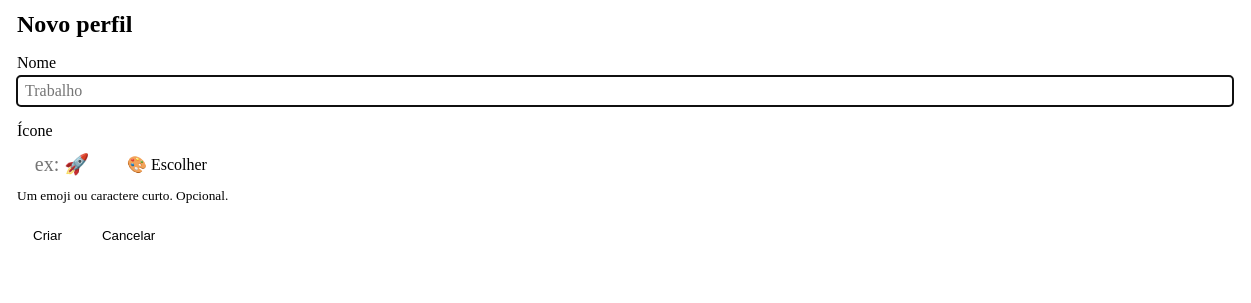
Scenario: ProfileEditor › requires a non-empty name
Click the button "Criar": {"x": 47, "y": 236} [17,220,78,251]
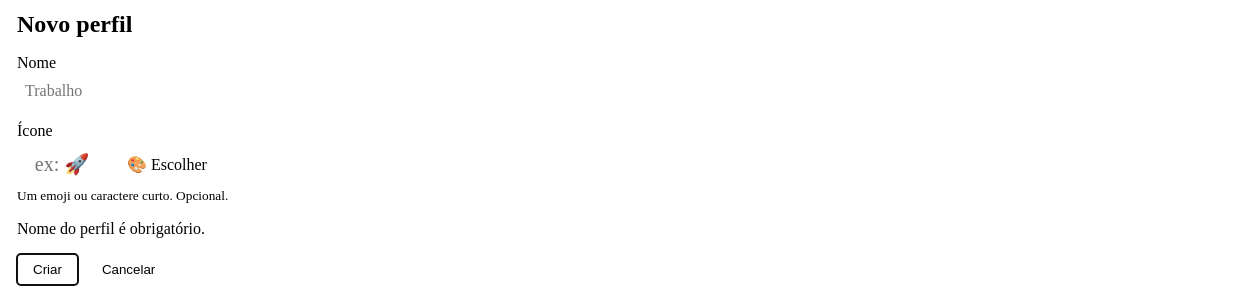
Expected: the text "Nome do perfil é obrigatório." is shown, [17,220,205,237]
